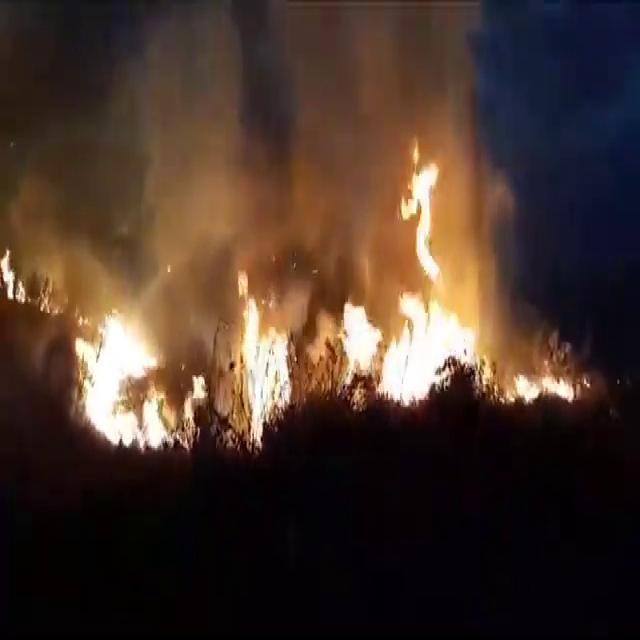Fire: (356, 140, 471, 414), (80, 309, 192, 452), (345, 302, 471, 406), (234, 286, 292, 441), (400, 154, 444, 280), (0, 243, 62, 314), (510, 364, 582, 406), (1, 243, 28, 310)
Smoke: (9, 12, 532, 345)
